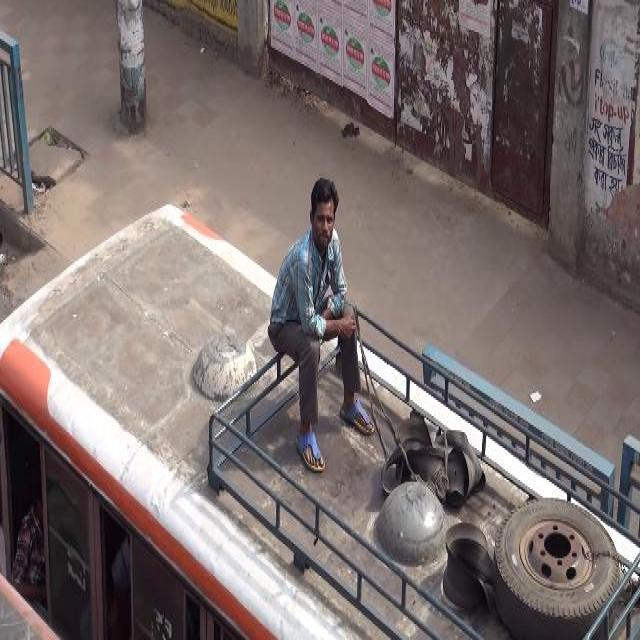bus: (1, 199, 639, 637)
